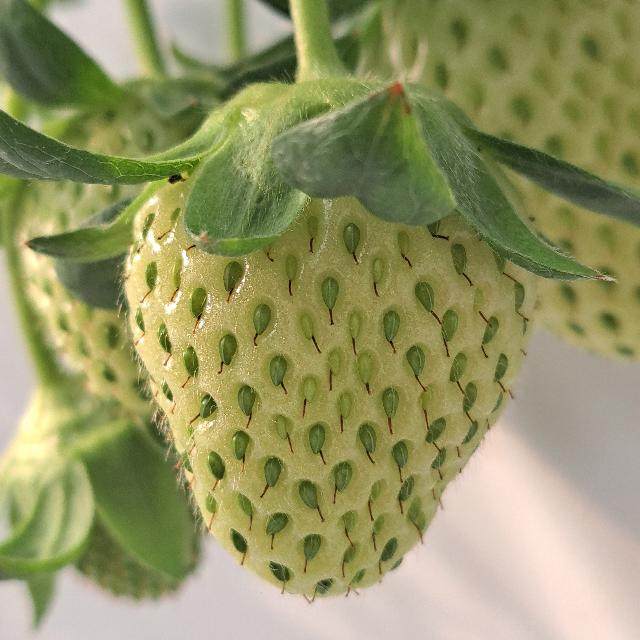Health_25: (123, 139, 537, 596)
